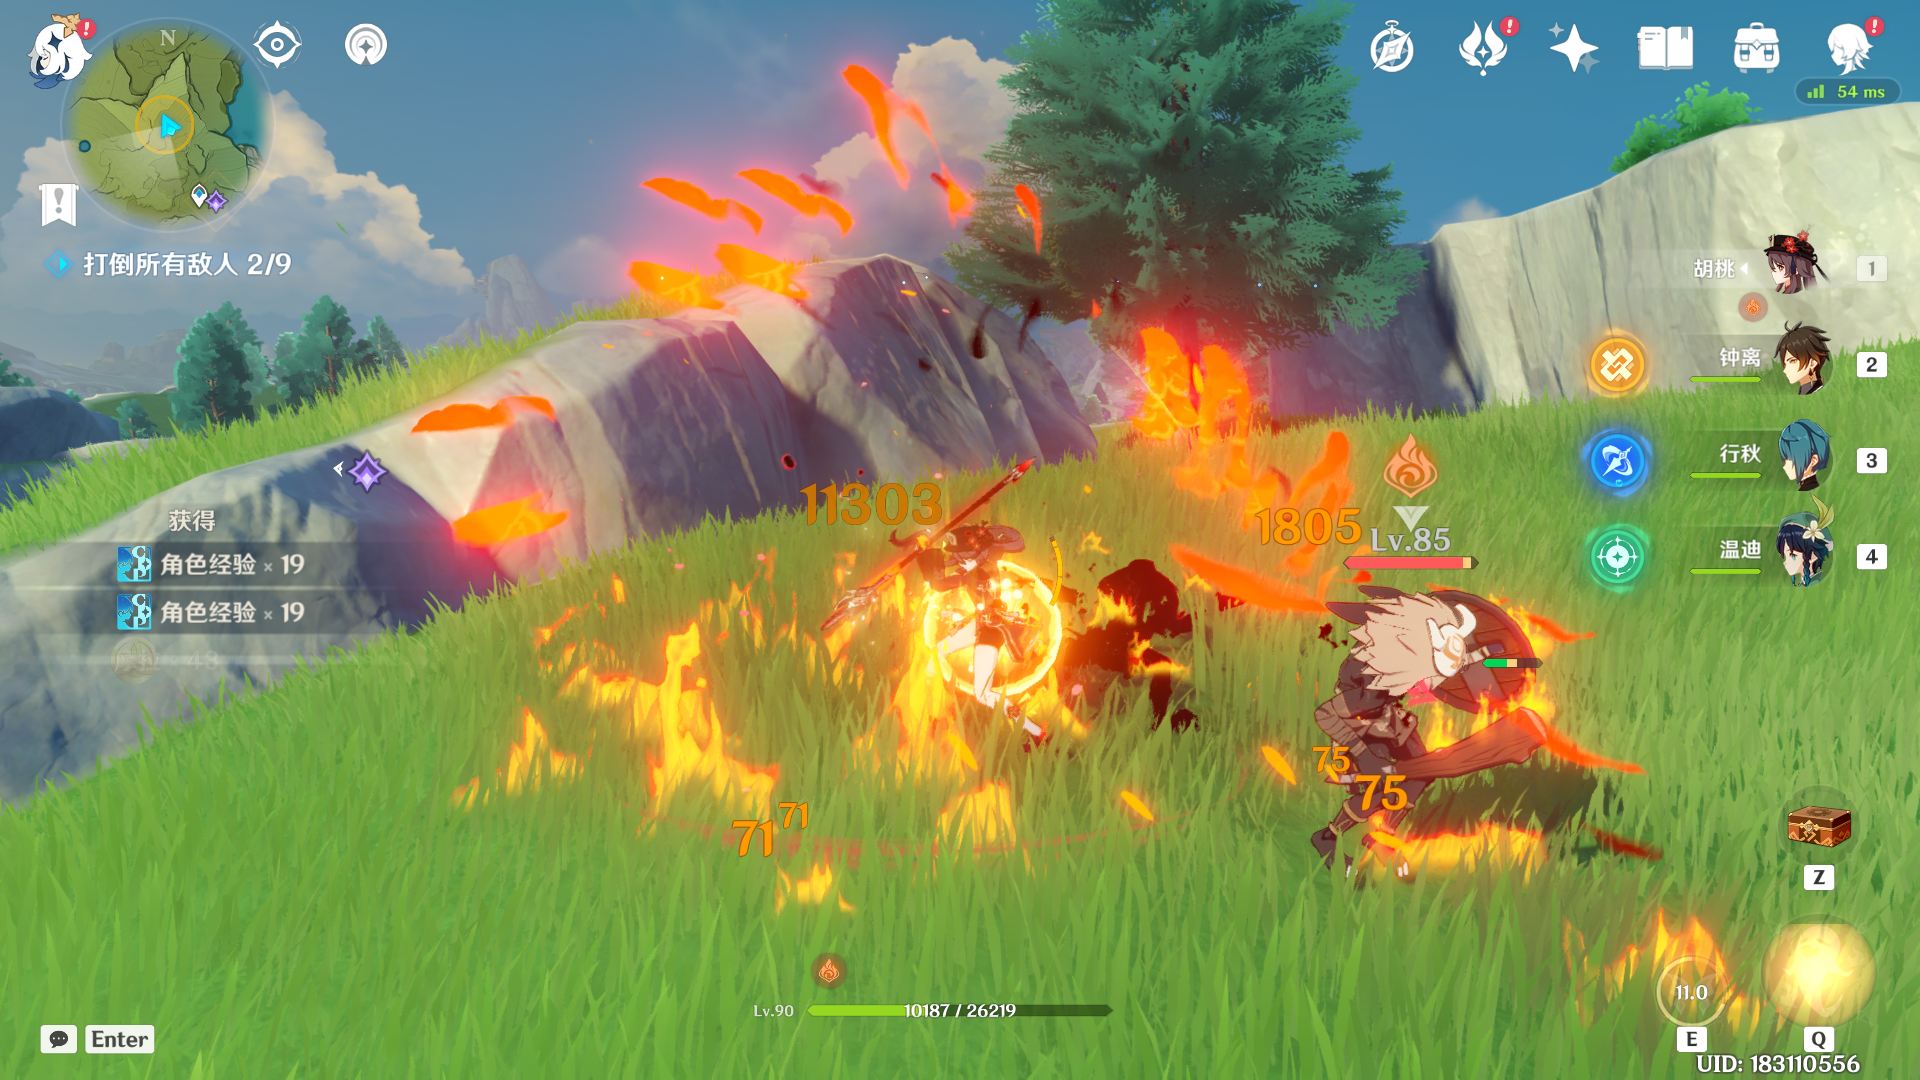character: (851, 484, 1156, 791)
hili: (1284, 574, 1597, 939)
